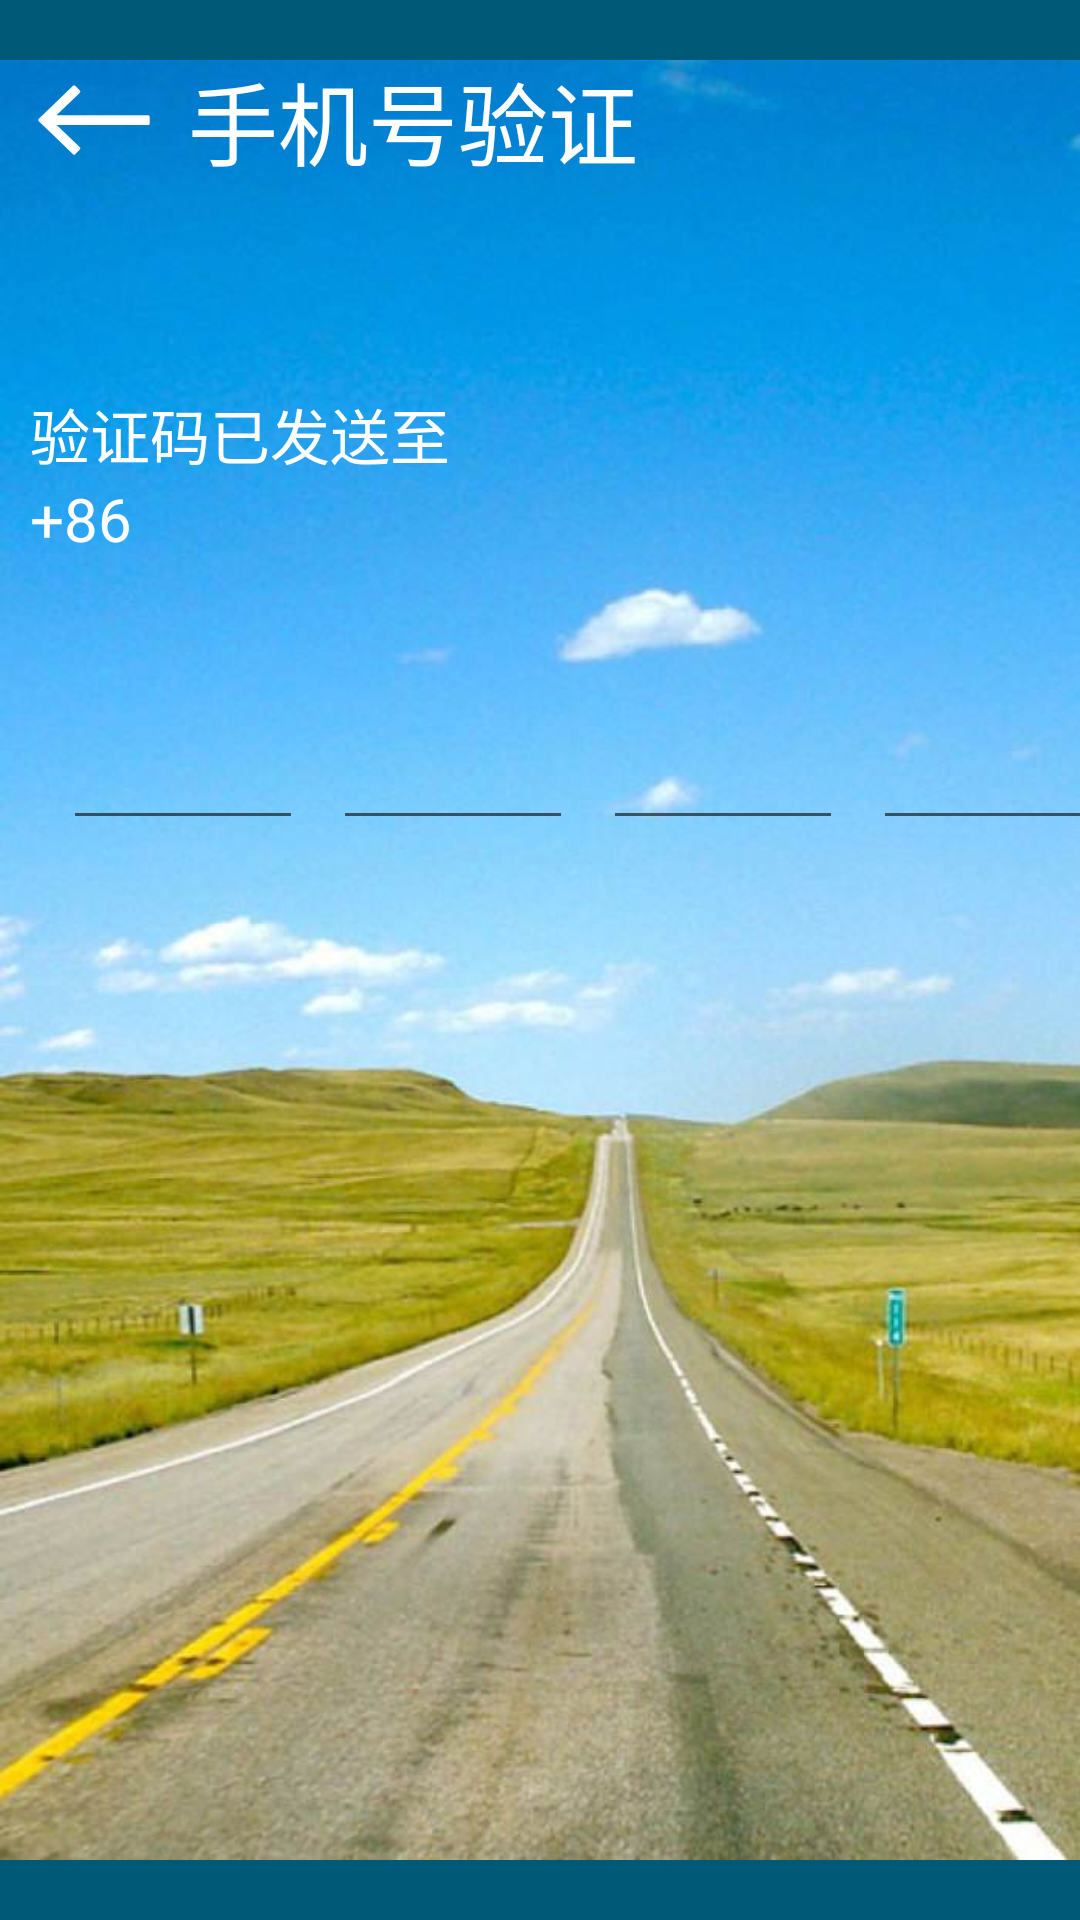

Point at icon controls on the screen. Image size 1080×1920, points as point (x, y).
back: point (94, 120)
